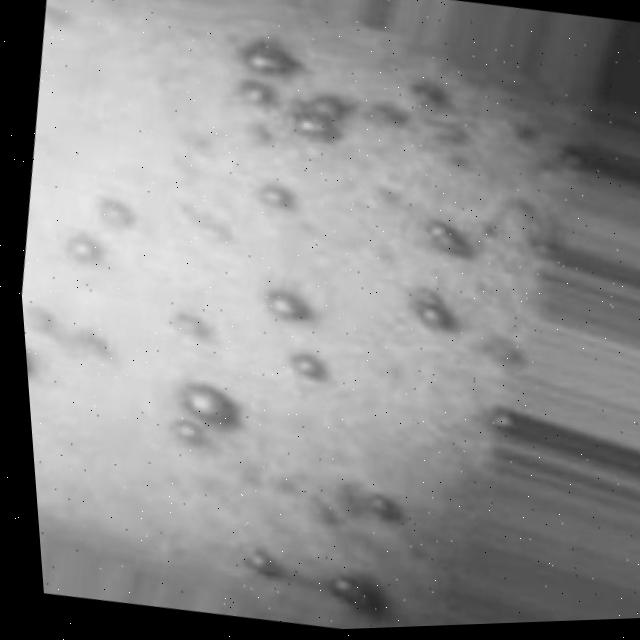Shingles: (175, 379, 247, 435), (322, 567, 394, 622), (290, 89, 355, 144), (235, 32, 306, 79), (403, 283, 465, 334), (290, 483, 346, 528), (421, 216, 477, 259), (475, 330, 532, 371), (261, 285, 317, 326), (355, 487, 408, 526), (240, 543, 290, 583), (167, 306, 218, 344), (363, 96, 415, 131), (405, 76, 453, 110), (63, 229, 107, 266), (287, 349, 332, 384), (234, 75, 278, 110), (95, 195, 137, 229), (22, 302, 61, 334), (256, 181, 297, 211), (170, 417, 208, 447), (25, 332, 40, 378)
